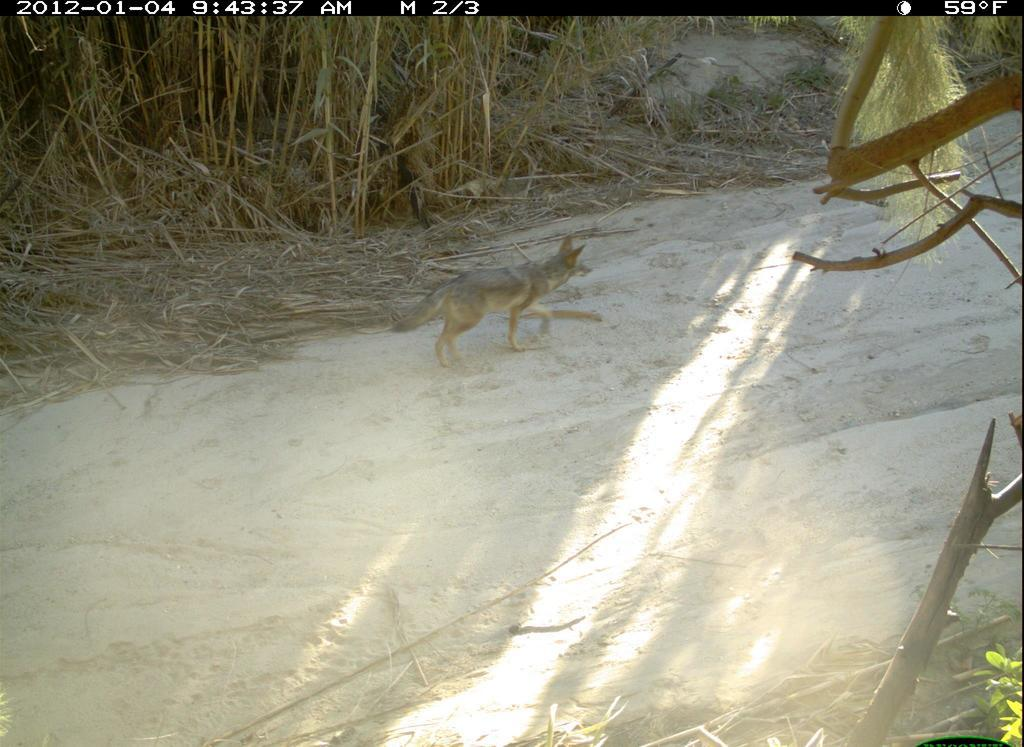coyote: (381, 233, 600, 372)
